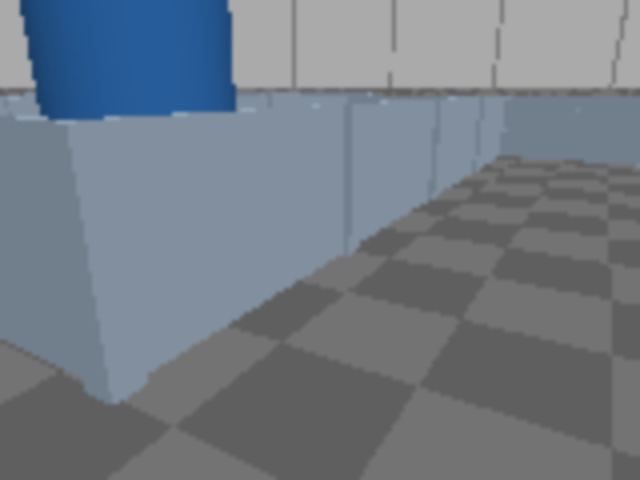person: (0, 0, 223, 301)
